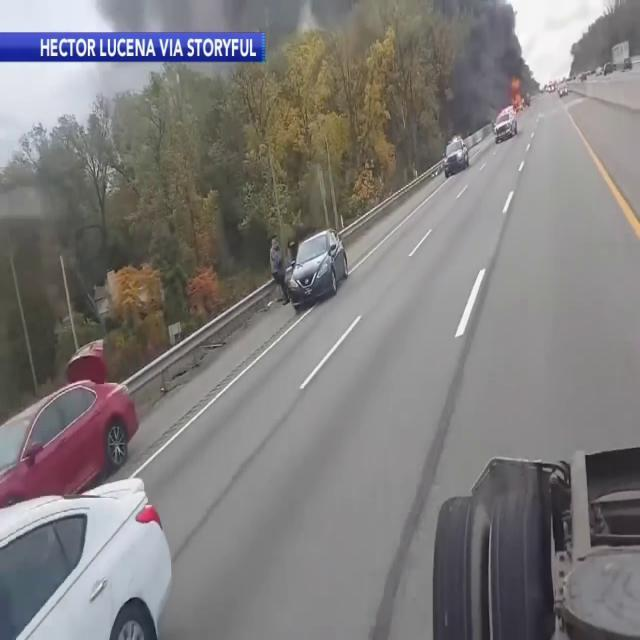Fire: (506, 71, 526, 121)
